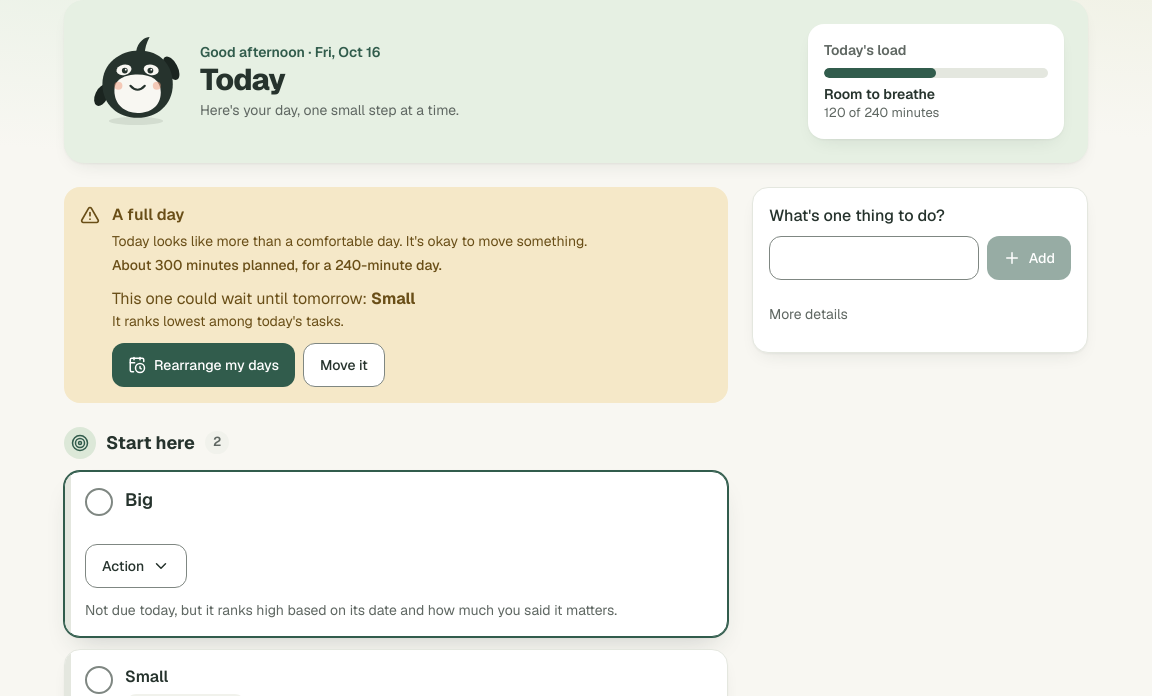
Test case: TodayView › undoes 'Move it' by restoring the previous date
Click the button "Move it": (344, 365) [303,343,385,387]
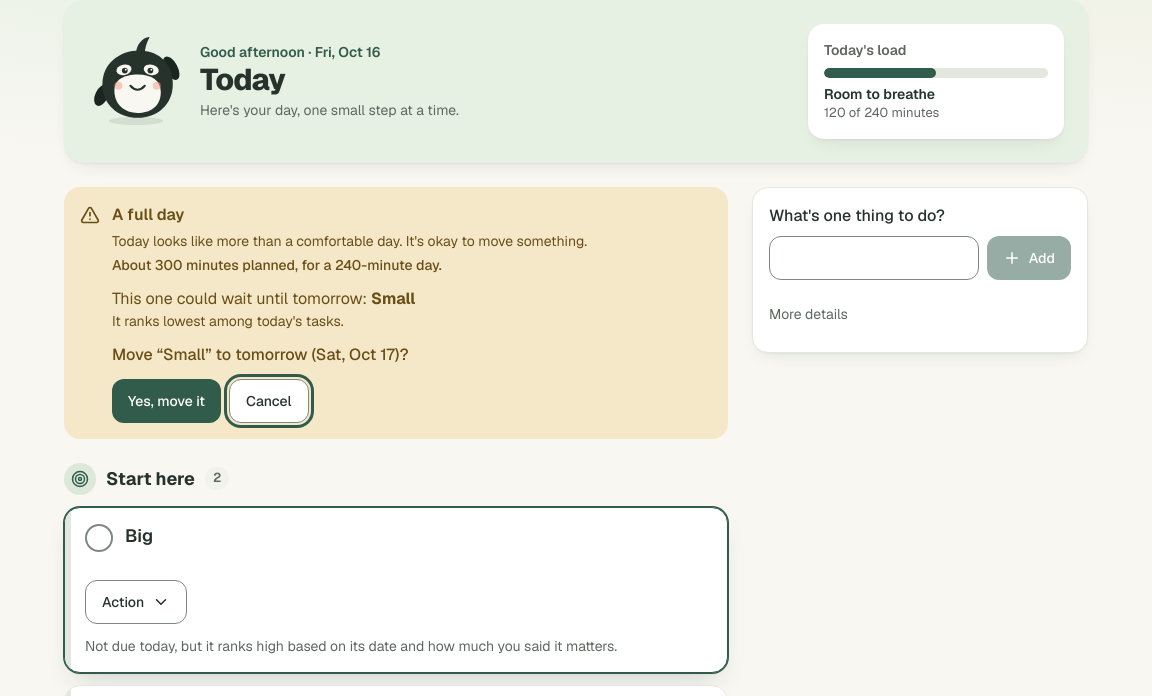
Click the button "Yes, move it": (166, 401) [112,379,221,423]
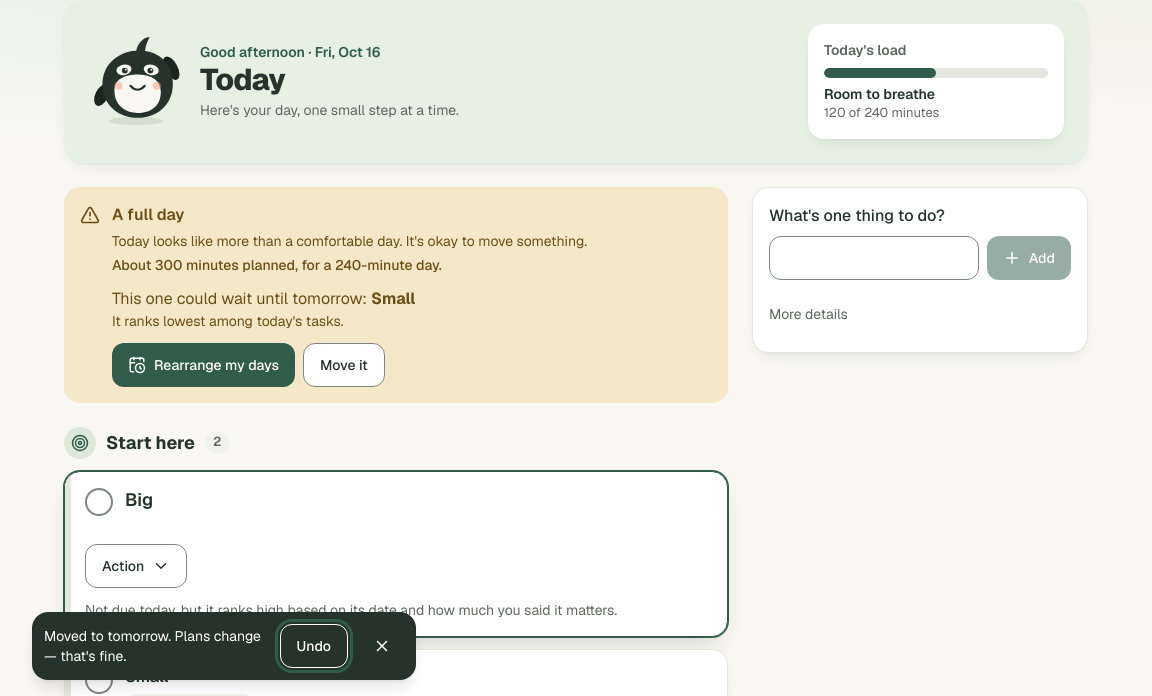
Click the button "Undo": (314, 646) [280,624,348,668]
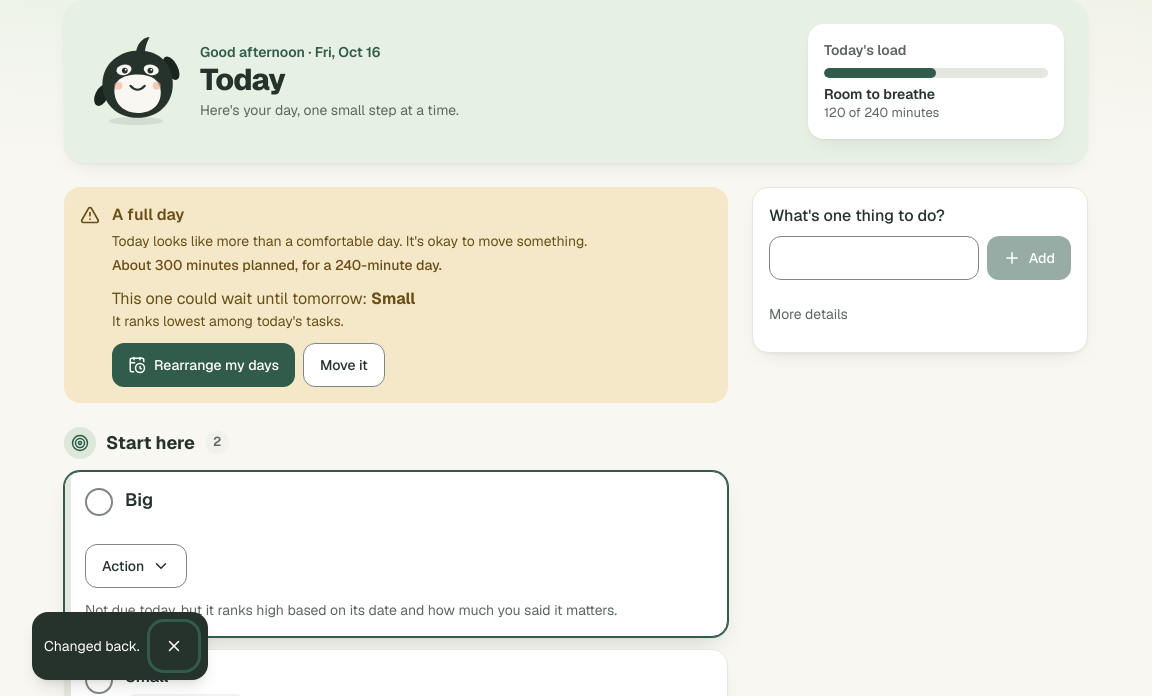
Expected: the text "Changed back." is shown, [44,636,140,656]
